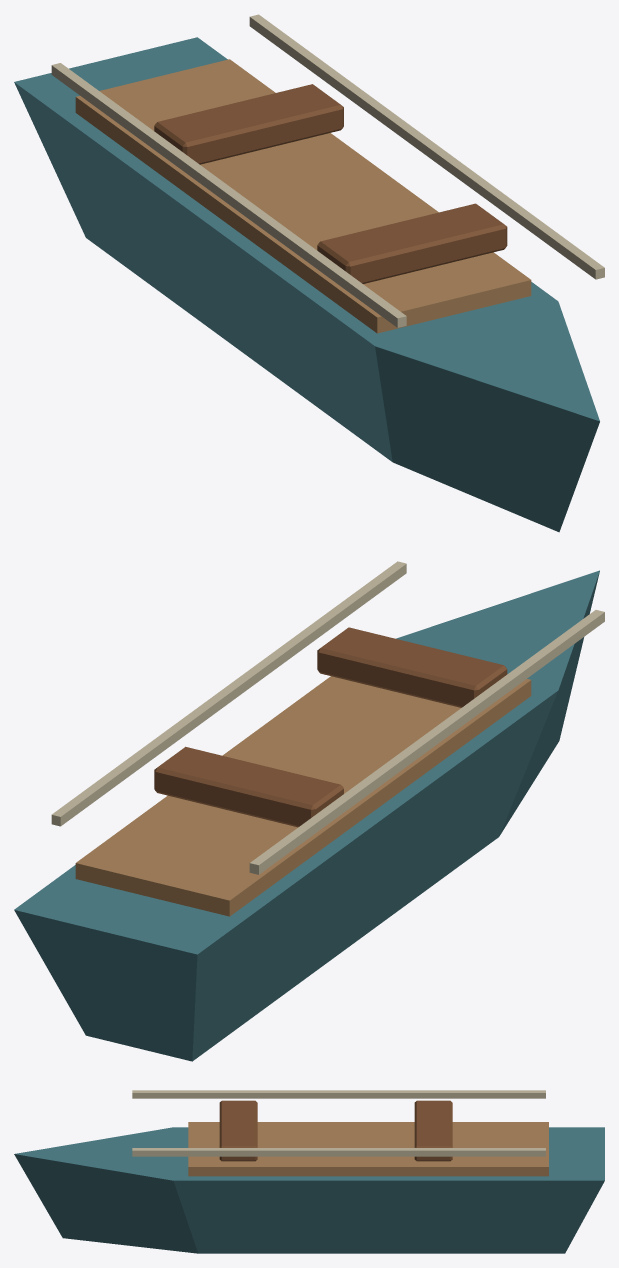
File: vessel_canoe.glb
3 views of the same model, one above another, from view 1: azimuth 30°, elevation 25°; view 2: azimuth 150°, elevation 25°; view 3: azimuth 270°, elevation 25° (orthographic). The views are drawn at different scales.
Visible parts, largest first — view 1: vessel_canoe; view 2: vessel_canoe; view 3: vessel_canoe.
Part boxes in pixels (bbox=[...]): vessel_canoe: bbox=[14, 14, 604, 532]; vessel_canoe: bbox=[14, 561, 604, 1061]; vessel_canoe: bbox=[14, 1090, 604, 1253].
Size of the model in its own units: 1.02 by 0.9225 by 4.2.
